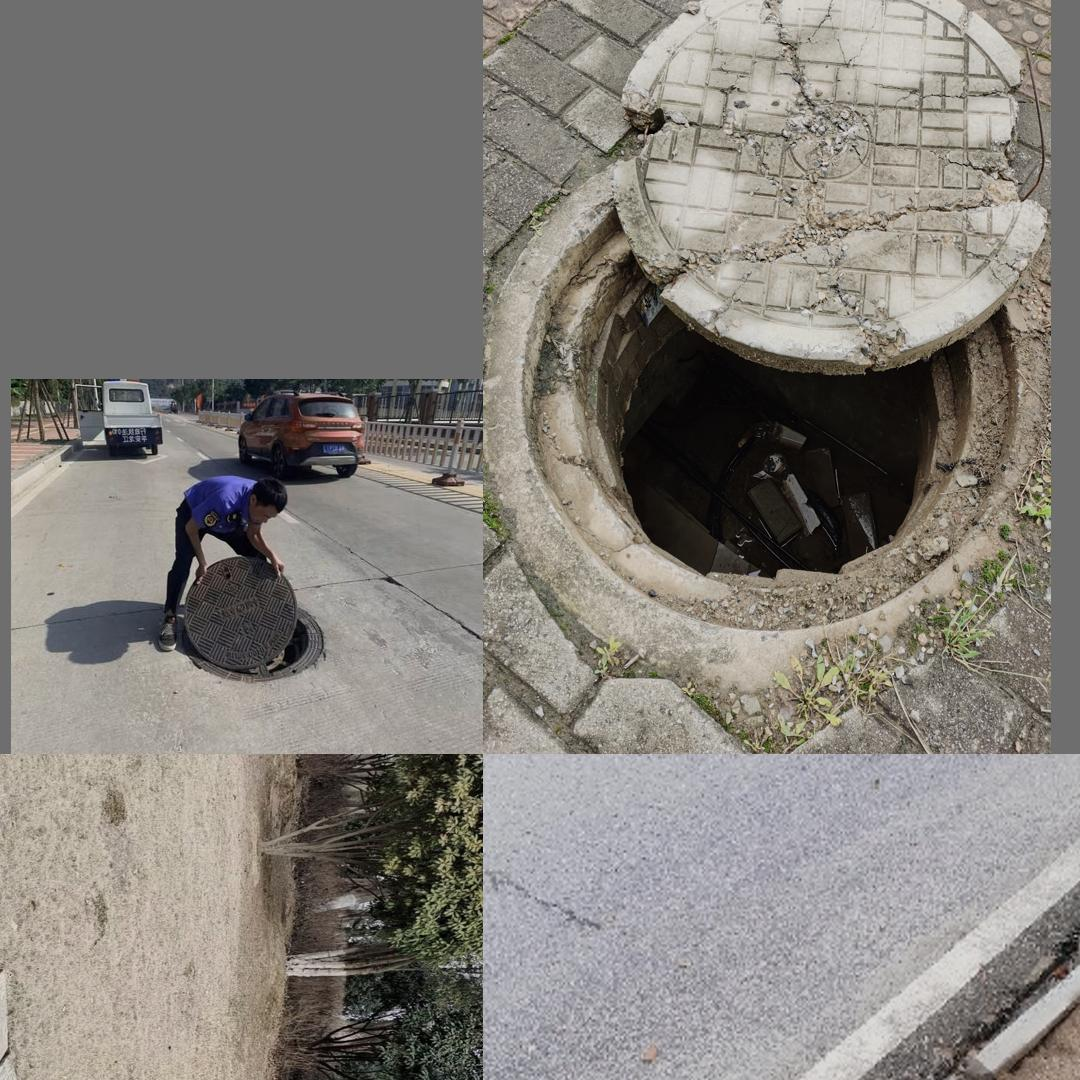uncovered: (490, 0, 1044, 636), (177, 552, 329, 685), (0, 969, 39, 1080)
